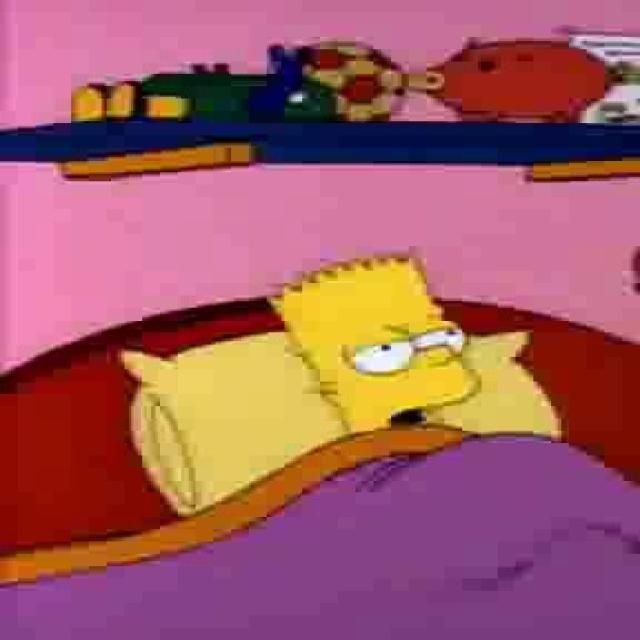Bart Simpson: (270, 249, 481, 431)
